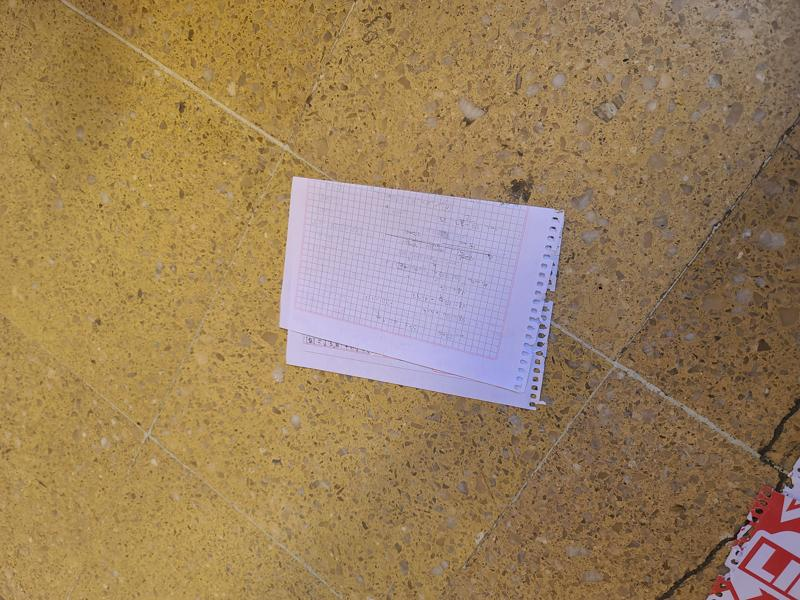papel: (279, 178, 566, 412)
